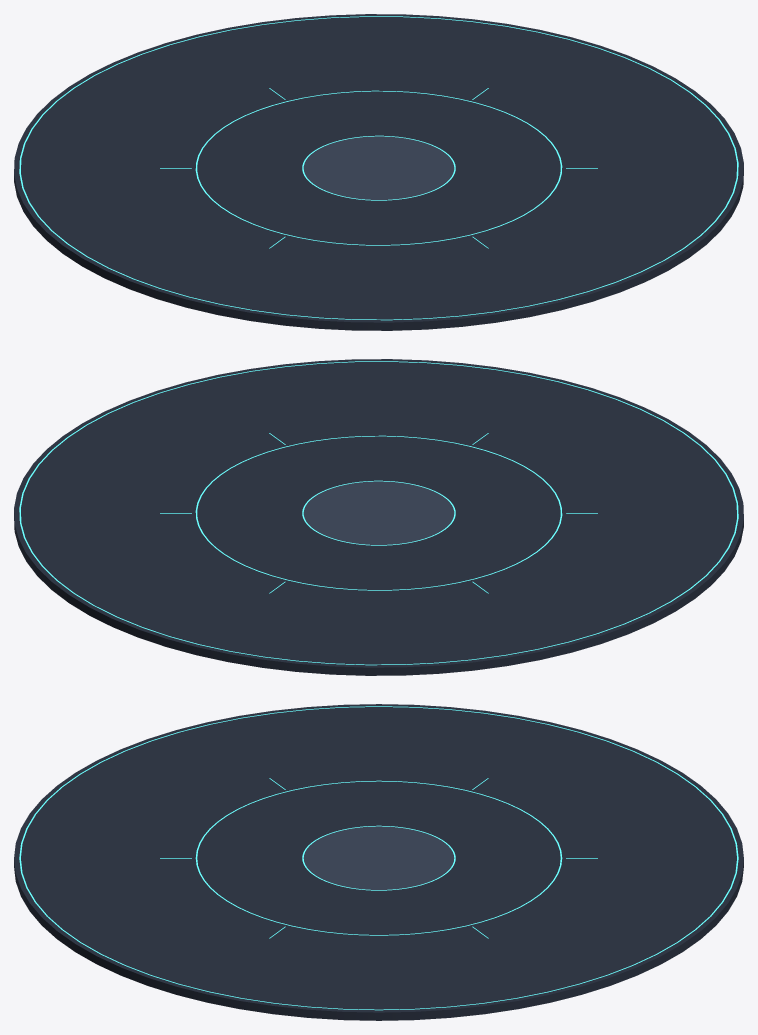
The picture shows the model from 3 angles, top to bottom: view 1: azimuth 30°, elevation 25°; view 2: azimuth 150°, elevation 25°; view 3: azimuth 270°, elevation 25°; orthographic projection.
Parts seen in each view (by area): view 1: nexo_floor.lod1; view 2: nexo_floor.lod1; view 3: nexo_floor.lod1.
Boxes of the visible parts, x1=… form: nexo_floor.lod1: x1=14, y1=14, x2=743, y2=330; nexo_floor.lod1: x1=14, y1=359, x2=743, y2=675; nexo_floor.lod1: x1=14, y1=704, x2=743, y2=1020.
Size of the model in its own units: 48 by 0.6094 by 48.
